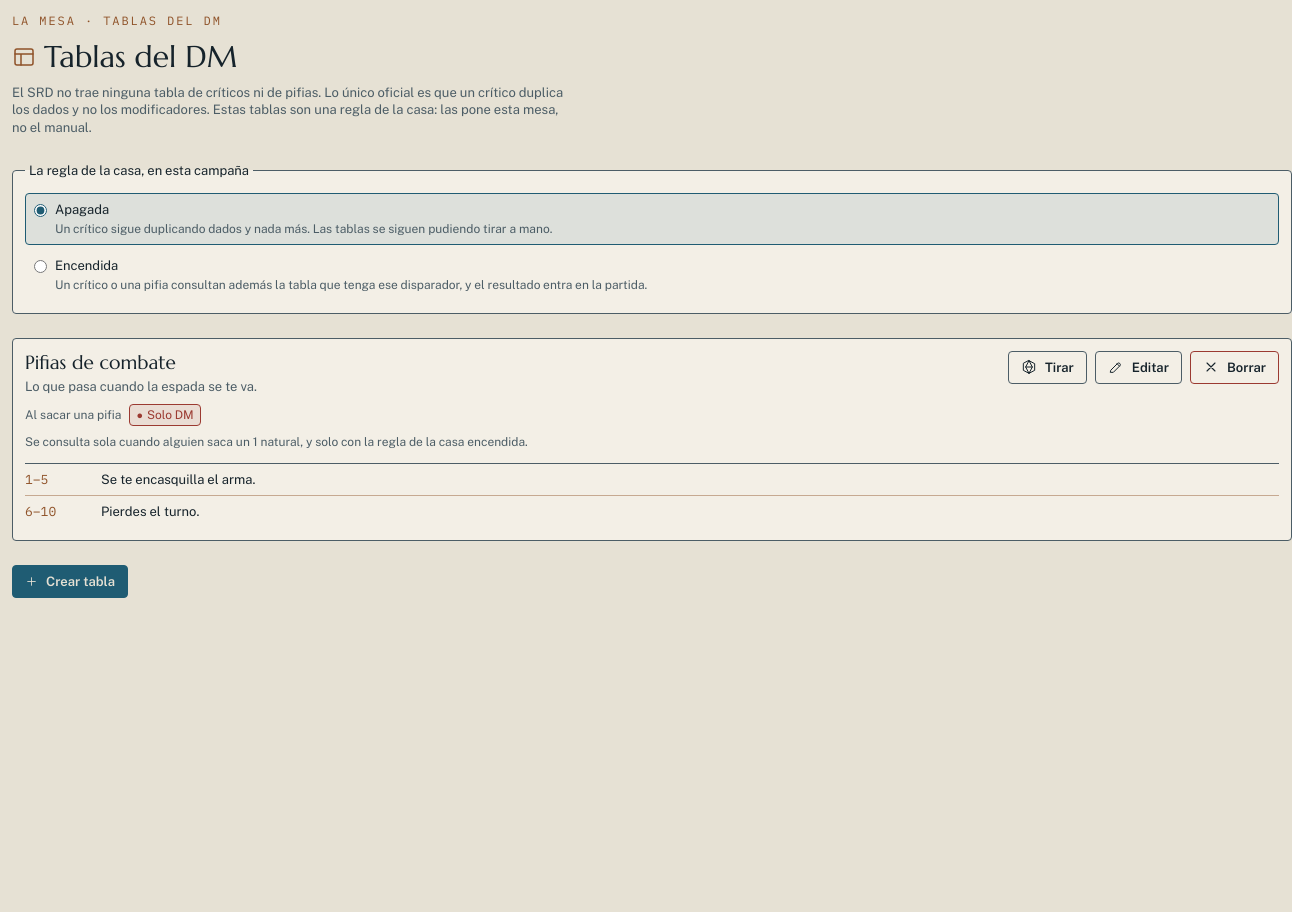
Test: PanelDeTablas — la lista › tirar una tabla enseña el texto del resultado
Click the button "Tirar".
click(1047, 367)  # box [1008, 351, 1087, 384]
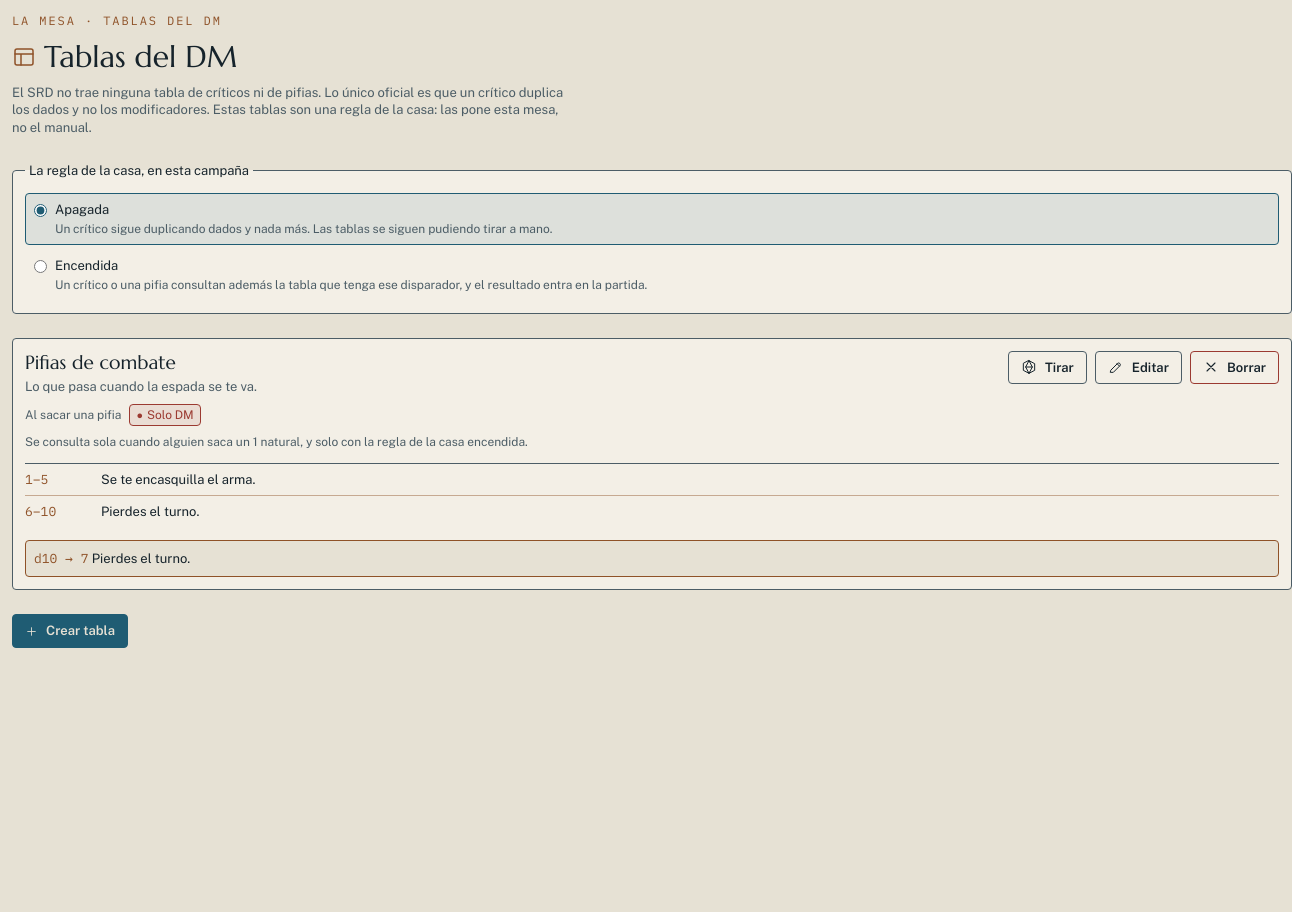
expect the message shows "Pierdes el turno.": met, box [92, 551, 190, 566]
expect the message shows "d10": met, box [25, 540, 1279, 577]
expect the message shows "7": met, box [81, 550, 89, 567]
